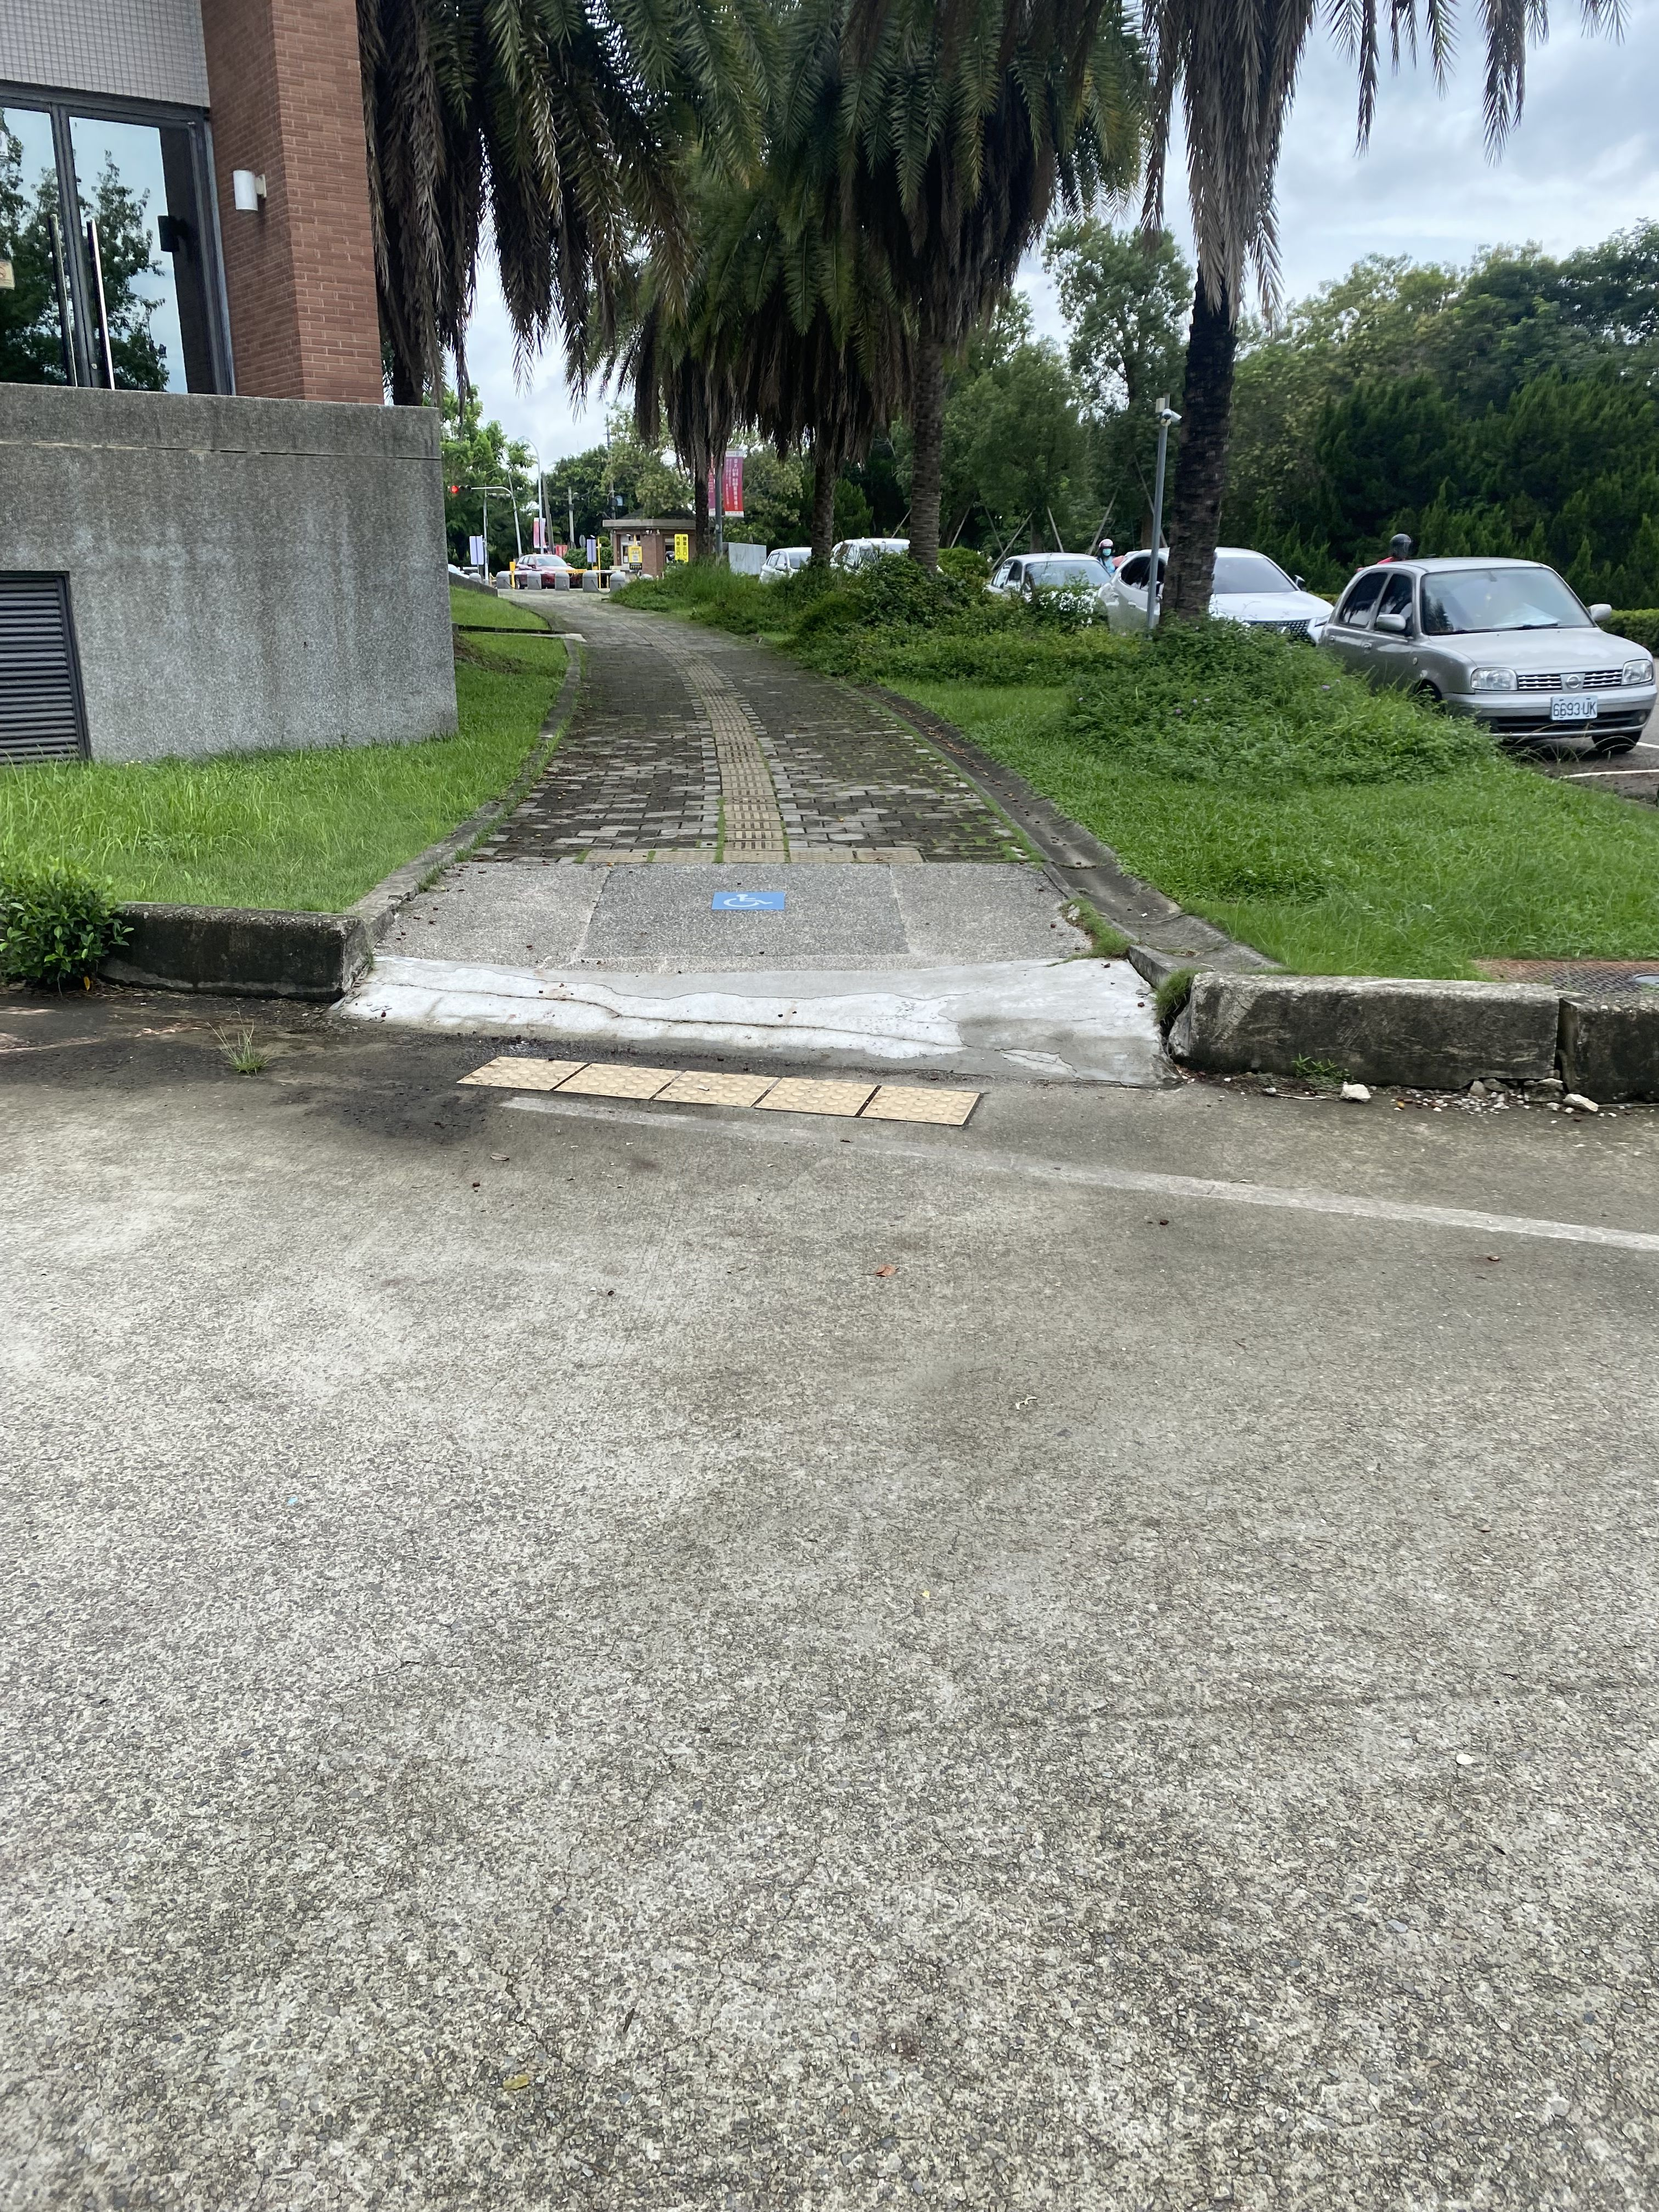sidewalk: (342, 573, 1215, 1251)
